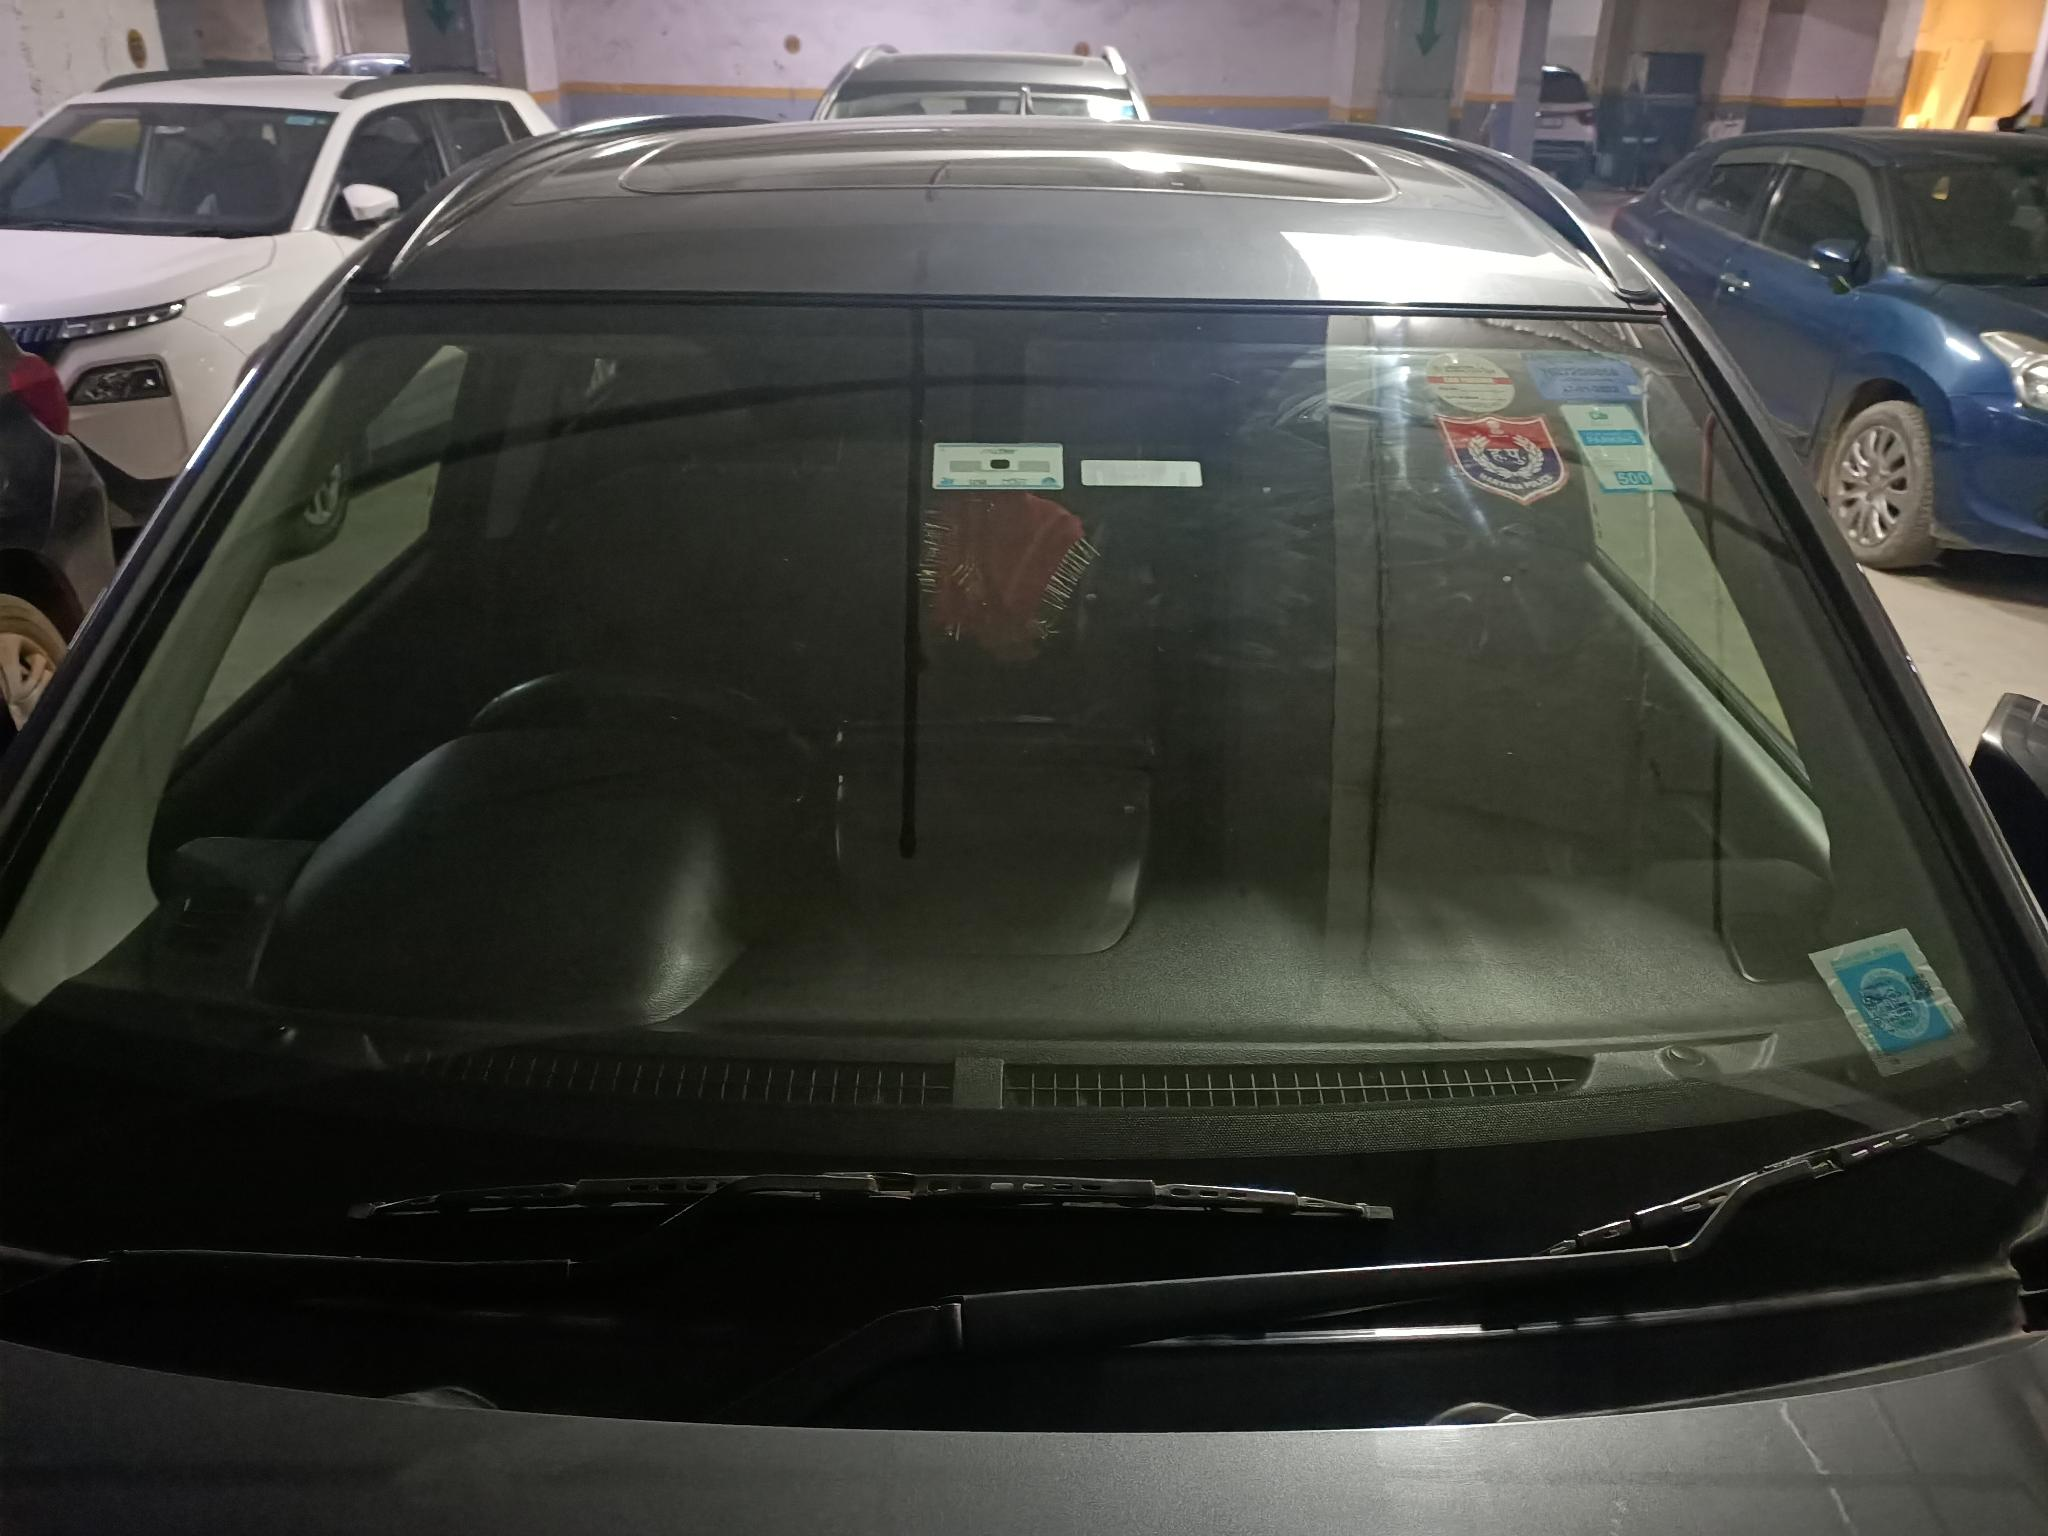FastTag: (913, 411, 1080, 515)
not a FastTag: (1432, 350, 1687, 524), (1784, 916, 1971, 1084)
